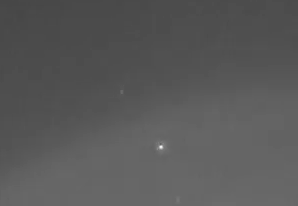Target: (121, 91, 179, 201)
